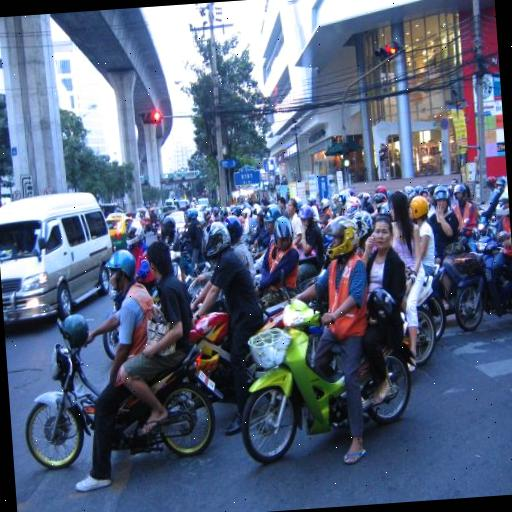helmet: (186, 218, 274, 483), (43, 244, 166, 412), (280, 218, 370, 434)
